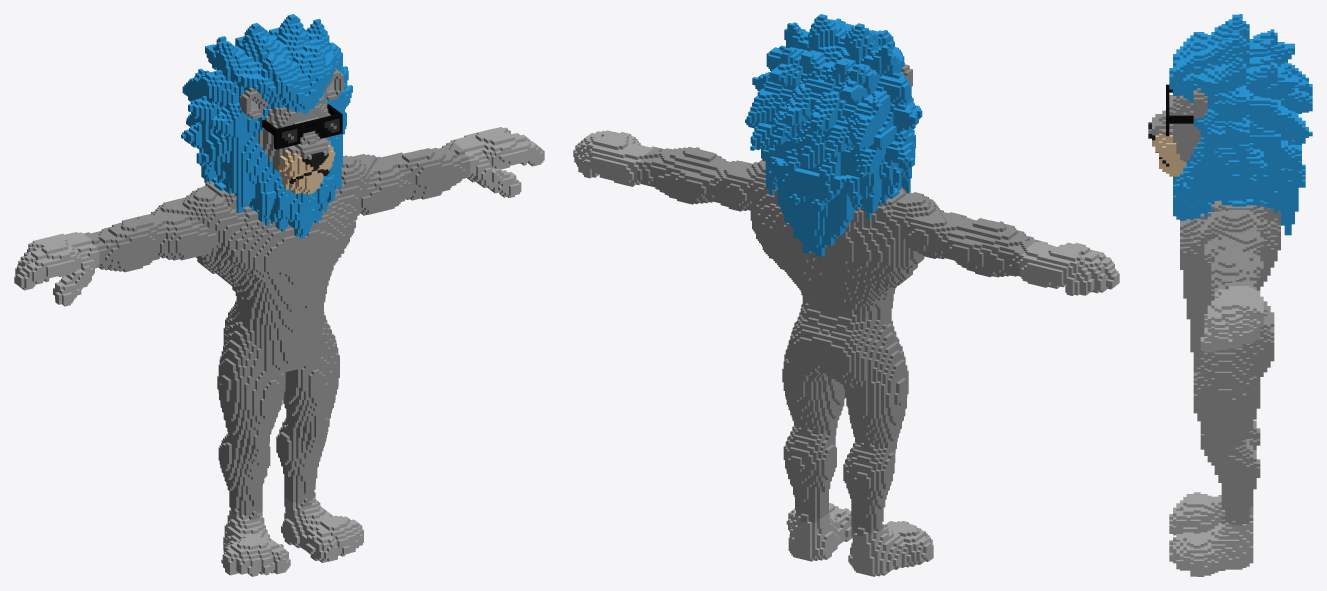
The picture shows the model from 3 angles, left to right: view 1: azimuth 30°, elevation 25°; view 2: azimuth 150°, elevation 25°; view 3: azimuth 270°, elevation 25°; orthographic projection. The views are drawn at different scales.
Parts seen in each view (by area): view 1: sad; view 2: sad; view 3: sad.
Part boxes in pixels (x1=…): sad: x1=14, y1=14, x2=544, y2=576; sad: x1=573, y1=14, x2=1119, y2=576; sad: x1=1148, y1=14, x2=1312, y2=576.
Size of the model in its own units: 17.2 by 16.5 by 4.7.
Materials: 4 (4 with a texture image).
